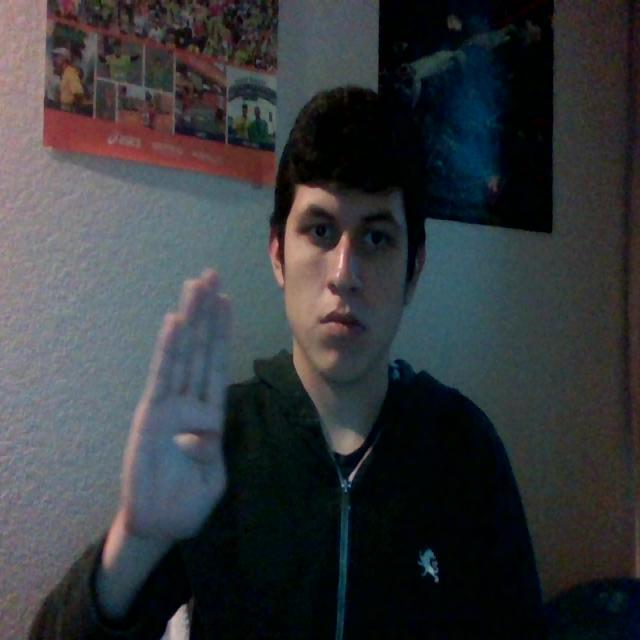B: (97, 259, 256, 574)
